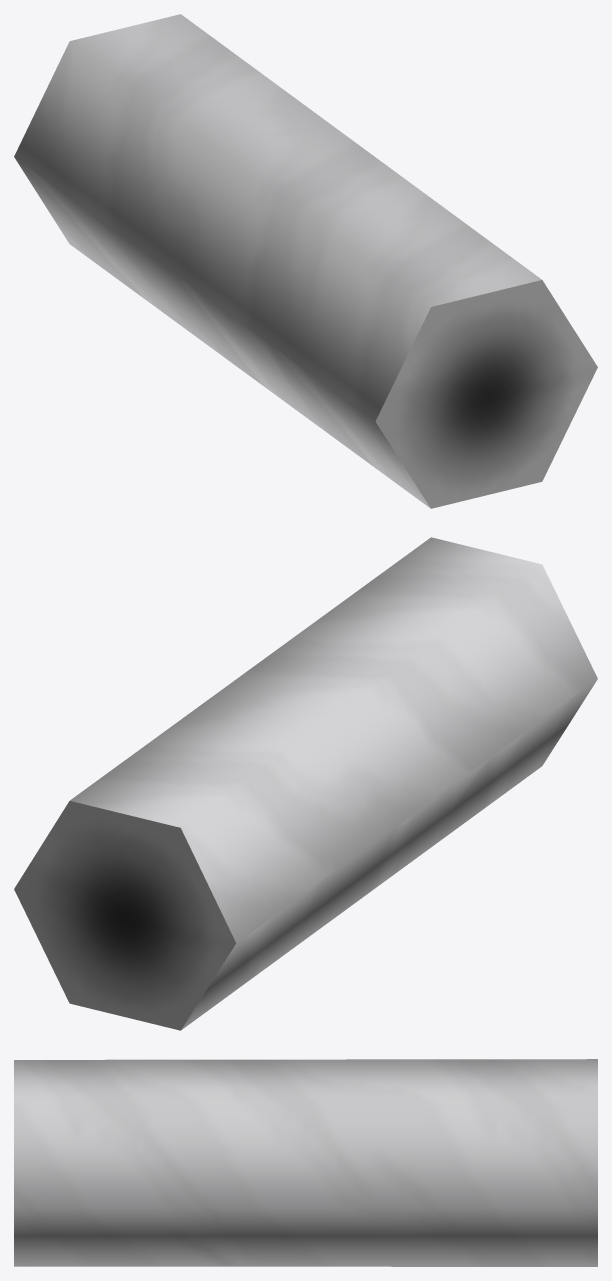
File: MetalPipeSilencerRifle.fbx
3 views of the same model, one above another, from view 1: azimuth 30°, elevation 25°; view 2: azimuth 150°, elevation 25°; view 3: azimuth 270°, elevation 25° (orthographic). The views are drawn at different scales.
Parts seen in each view (by area): view 1: MetalPipeRifle.001; view 2: MetalPipeRifle.001; view 3: MetalPipeRifle.001.
Part boxes in pixels (x1,y1,x2,y2): MetalPipeRifle.001: (14, 14, 597, 508); MetalPipeRifle.001: (14, 537, 597, 1030); MetalPipeRifle.001: (14, 1059, 597, 1266).
Size of the model in its own units: 3.93 by 3.42 by 11.05.
